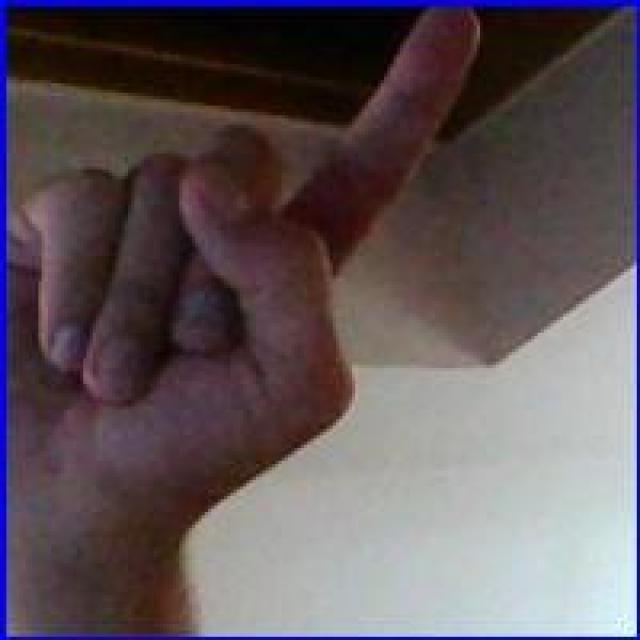Z: (11, 11, 482, 498)
